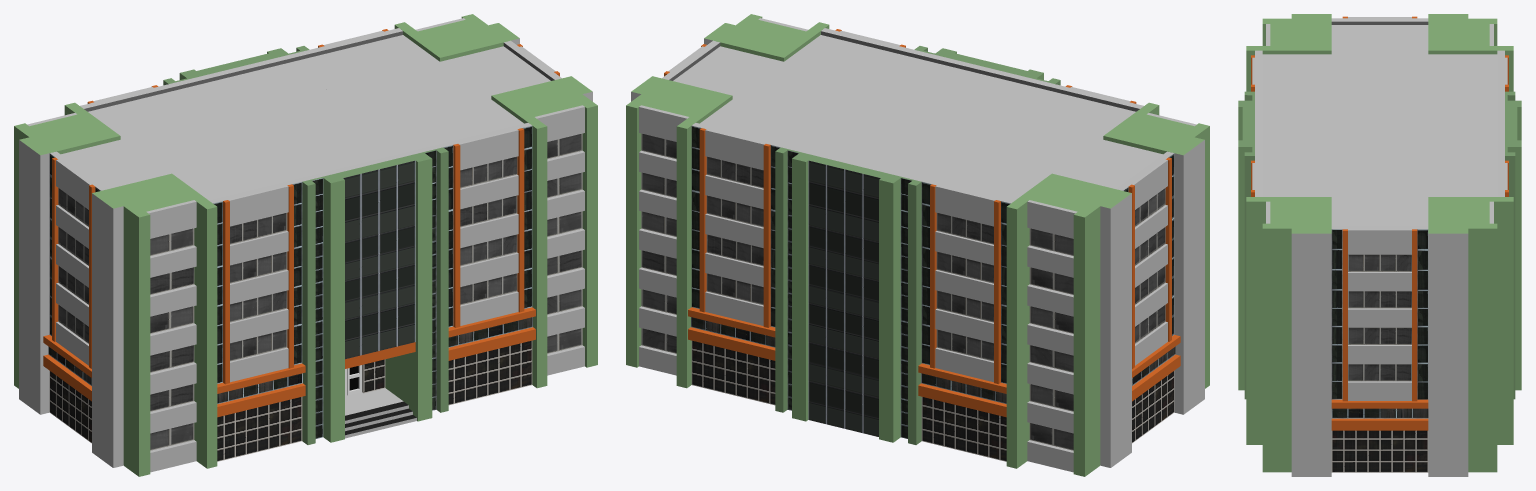
3 renders of one model, left to right at view 1: azimuth 30°, elevation 25°; view 2: azimuth 150°, elevation 25°; view 3: azimuth 270°, elevation 25°, orthographic. The views are drawn at different scales.
Parts seen in each view (by area): view 1: Building; view 2: Building; view 3: Building.
Part boxes in pixels (box(x1,y1,x2,y2)): Building: box(14, 14, 597, 476); Building: box(626, 14, 1209, 476); Building: box(1238, 14, 1521, 476).
Size of what is drawn, in the model's own units: 38.68 by 20 by 21.08.
